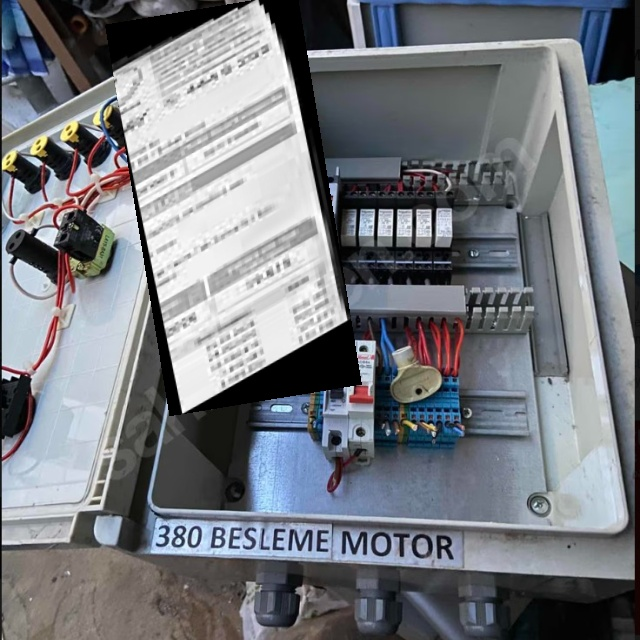electricity-bill: (105, 0, 362, 416)
